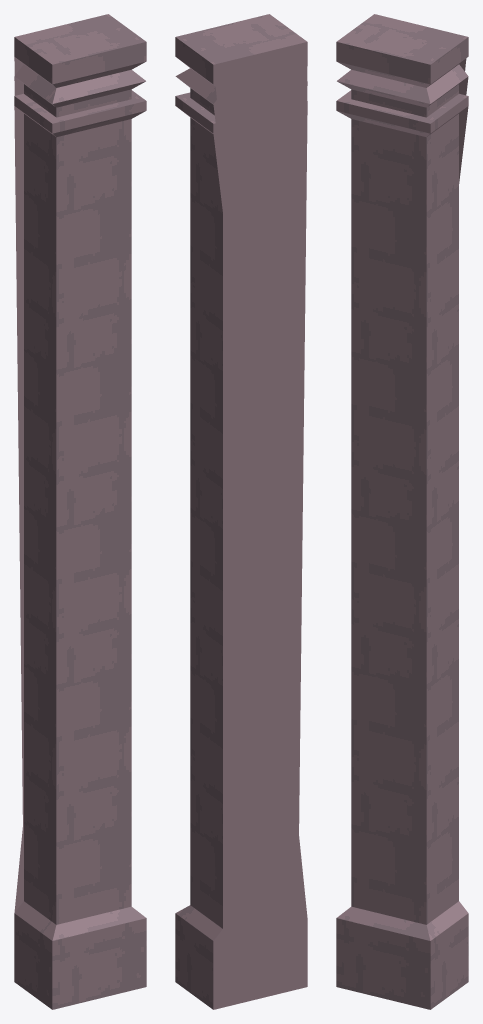
Rendered from wandpfeiler_raum_b.glb.
3 renders of one model, left to right at view 1: azimuth 30°, elevation 25°; view 2: azimuth 210°, elevation 25°; view 3: azimuth 330°, elevation 25°, orthographic.
Parts seen in each view (by area): view 1: pfeiler_raum; view 2: pfeiler_raum; view 3: pfeiler_raum.
Part boxes in pixels (x1,y1,x2,y2): pfeiler_raum: (14, 14, 146, 1009); pfeiler_raum: (175, 14, 307, 1009); pfeiler_raum: (336, 14, 468, 1009).
Size of the model in its own units: 0.625 by 6 by 0.4375.
Materials: 1 (1 with a texture image).
